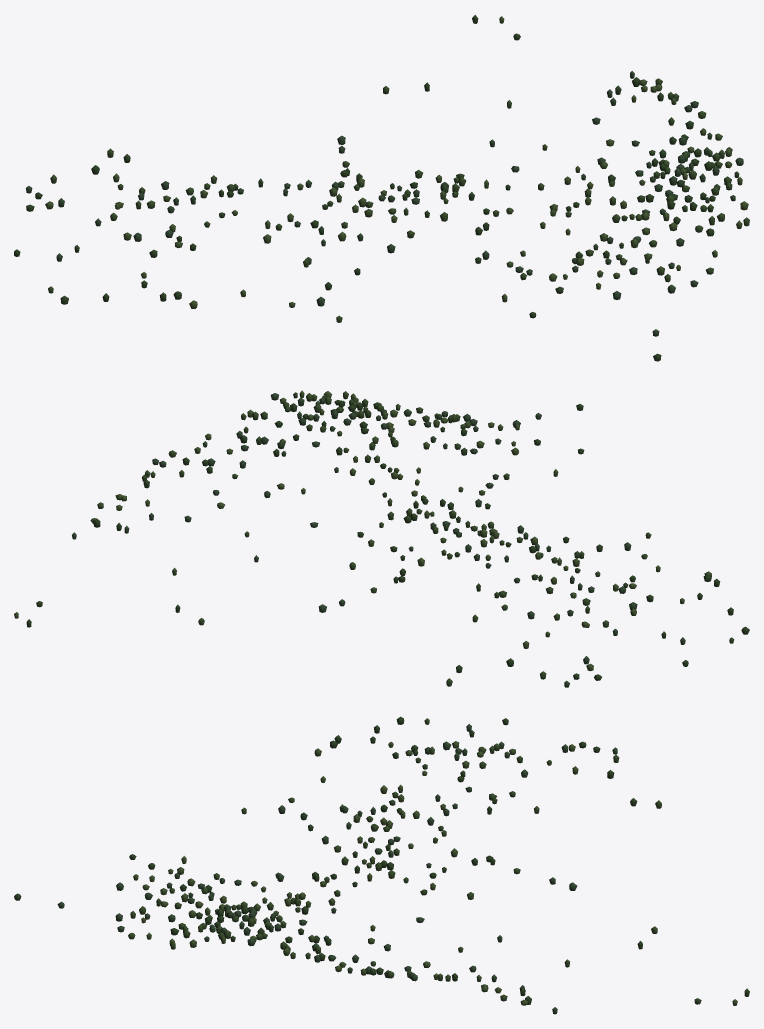
File: SM_Fondale_Colle_Alberi_01.fbx
3 views of the same model, one above another, from view 1: azimuth 30°, elevation 25°; view 2: azimuth 150°, elevation 25°; view 3: azimuth 270°, elevation 25° (orthographic). The views are drawn at different scales.
Parts seen in each view (by area): view 1: SM_Fondale_Colle_Alberi_01; view 2: SM_Fondale_Colle_Alberi_01; view 3: SM_Fondale_Colle_Alberi_01.
Boxes of the visible parts, <box> form: SM_Fondale_Colle_Alberi_01: <box>14,14,749,361</box>; SM_Fondale_Colle_Alberi_01: <box>14,390,749,687</box>; SM_Fondale_Colle_Alberi_01: <box>14,716,749,1014</box>.
Bounding box in the file's own units: 109440 × 114268 × 10012.
